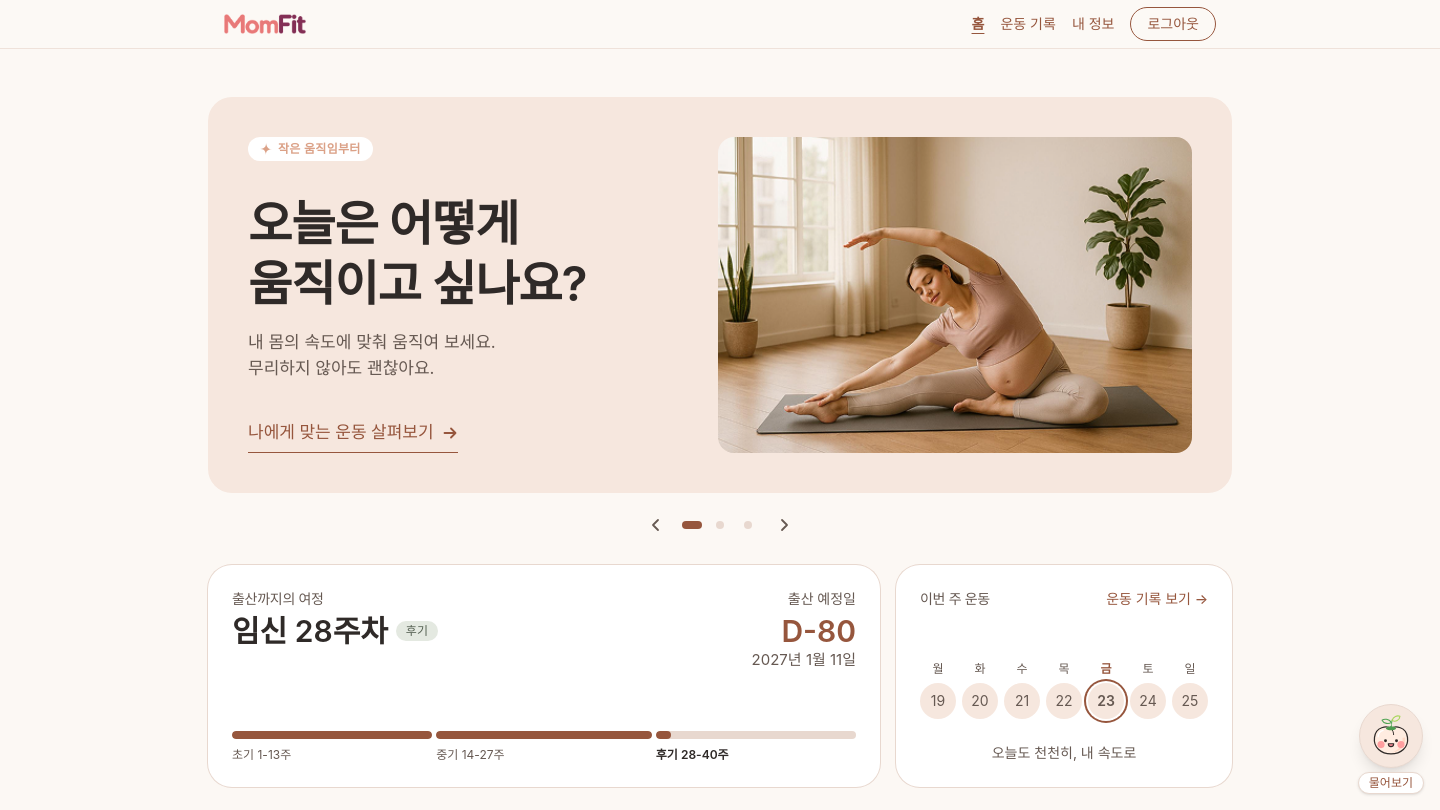
Test case: SiteHeader › 로그아웃 확인 모달 › 확인하면 로그아웃하고 랜딩(/)으로 이동하며 모달을 닫는다
Click the button "로그아웃" at (1173, 24), box [1130,7,1216,41]
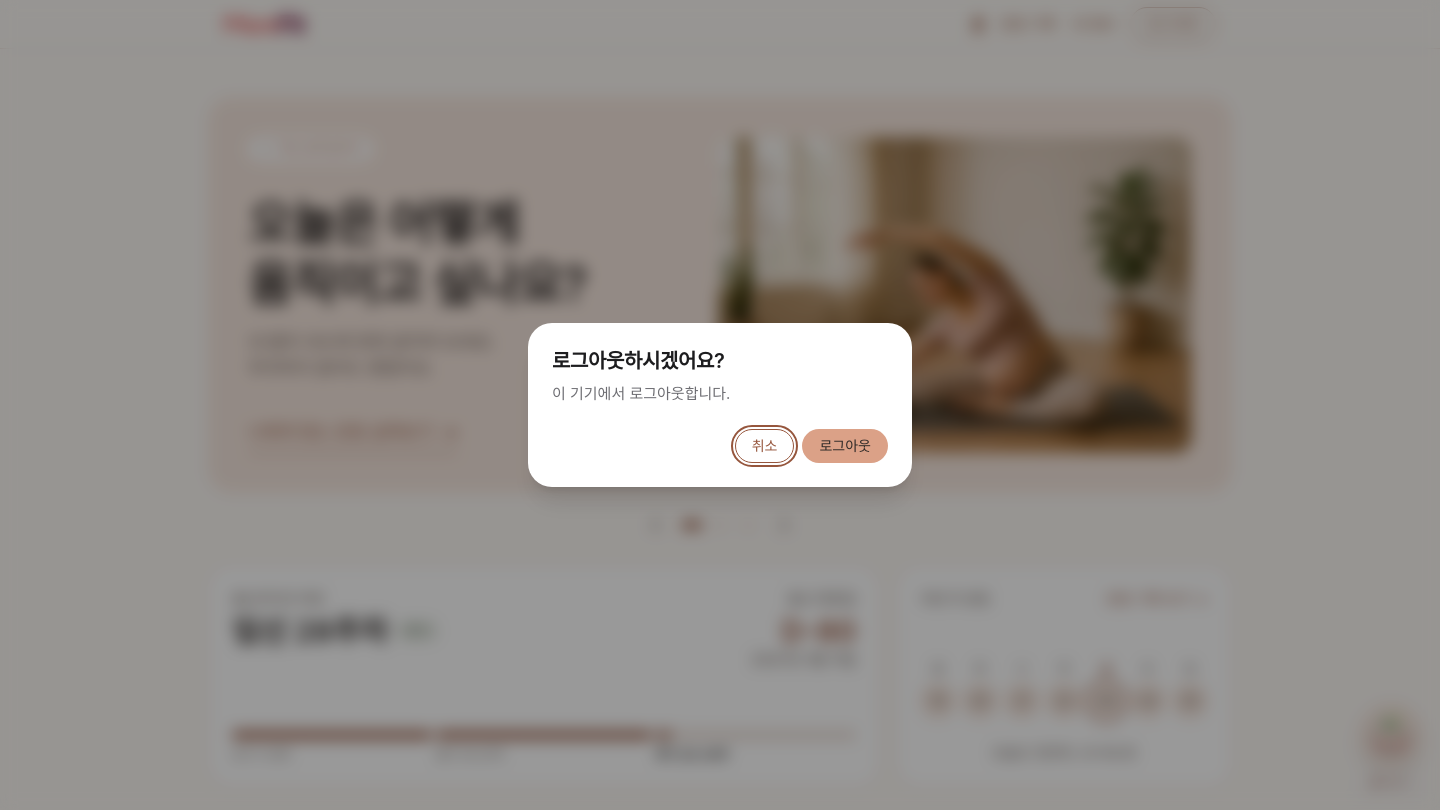
Click the button "로그아웃" at (845, 446), box [802,429,888,463]
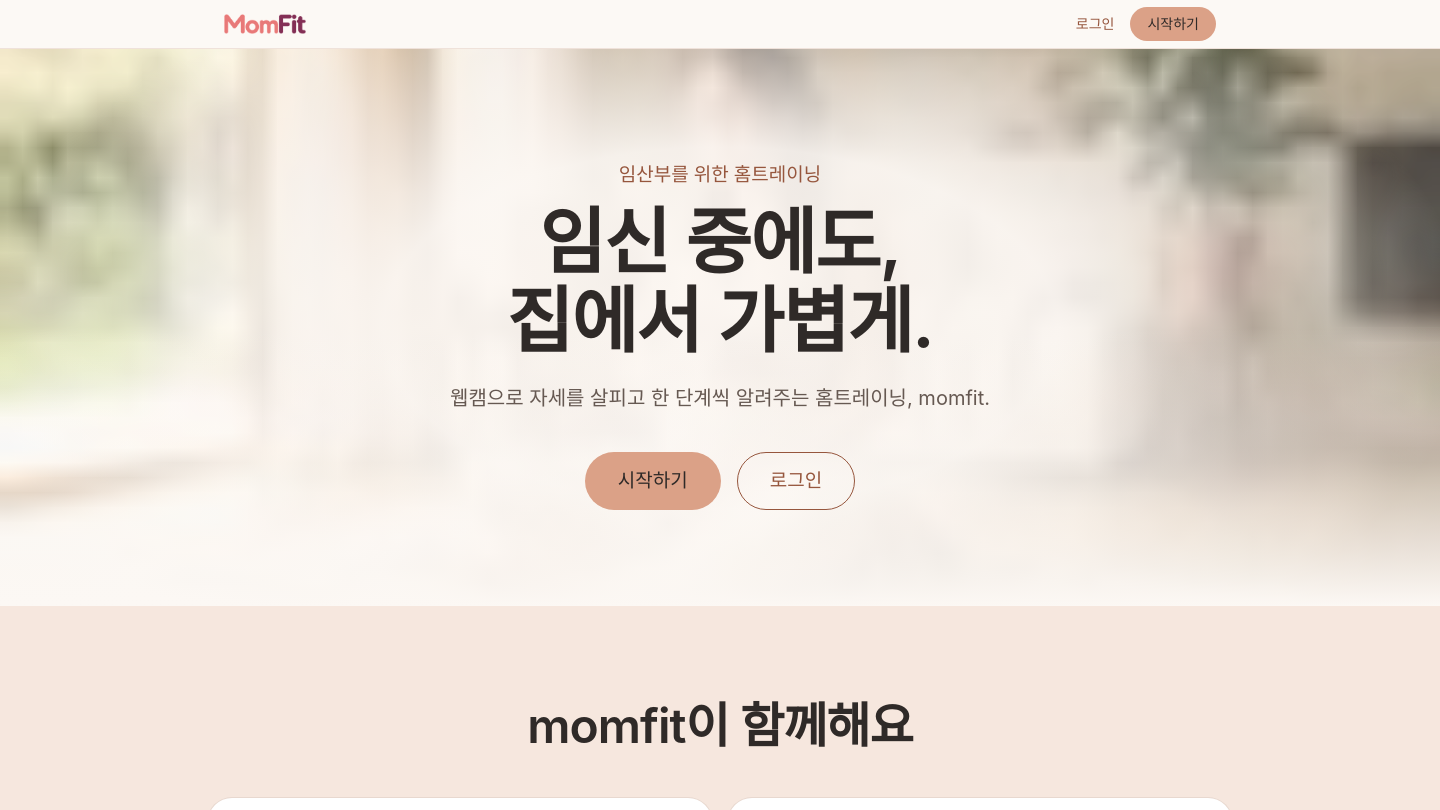
Check: the dialog is gone
Check: the button "로그아웃" is gone
